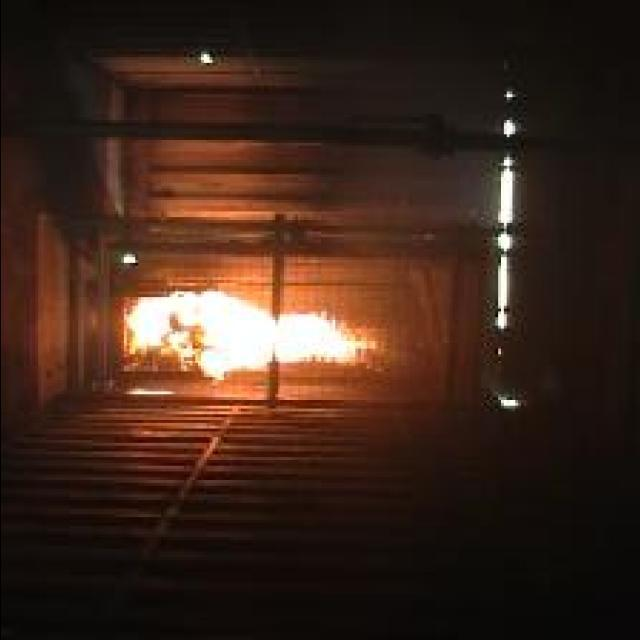Fire: (125, 289, 382, 382)
